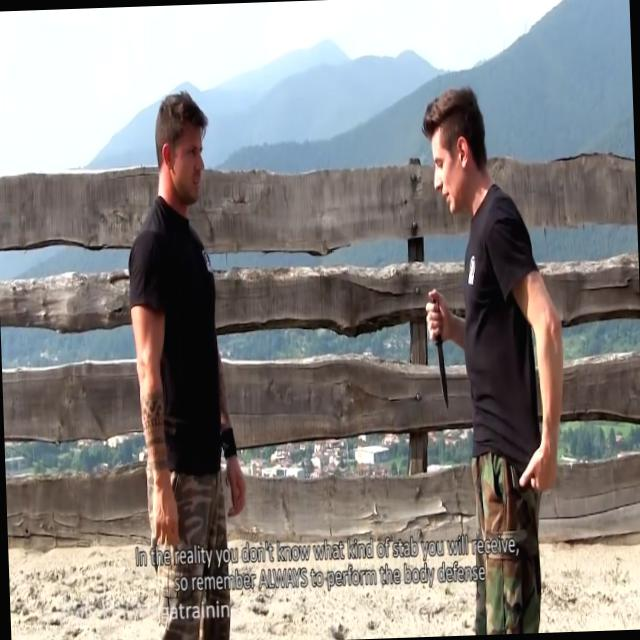knife: (422, 286, 452, 414)
